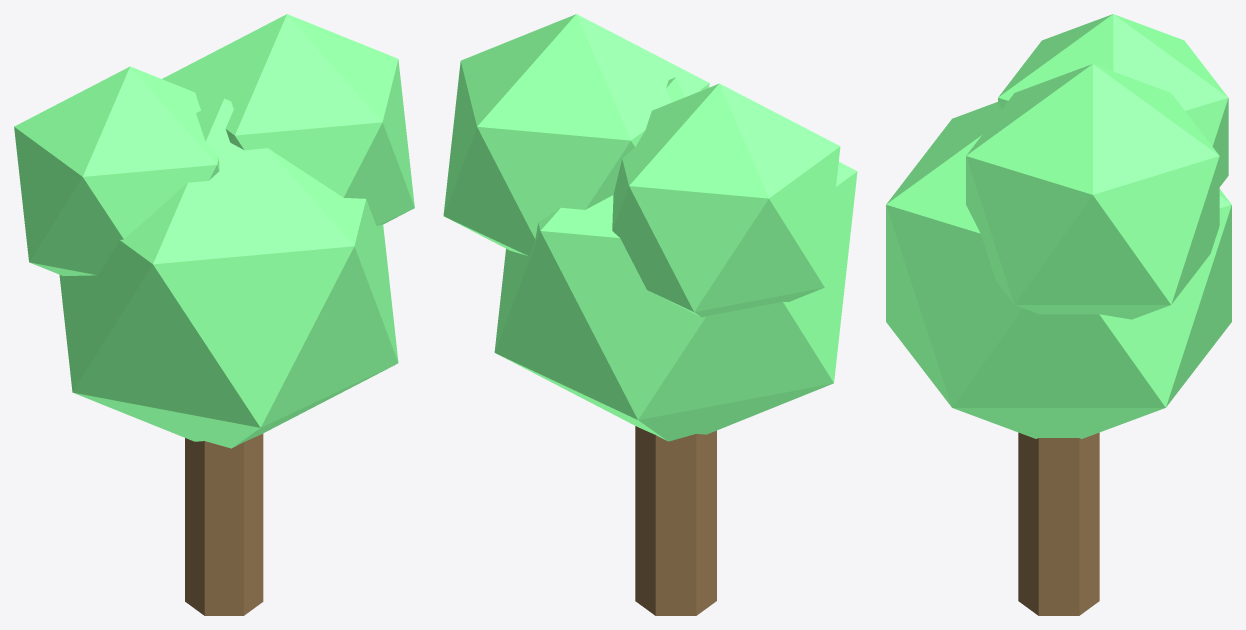
File: tree_oak.glb
3 views of the same model, side by side, from view 1: azimuth 30°, elevation 25°; view 2: azimuth 150°, elevation 25°; view 3: azimuth 270°, elevation 25° (orthographic). The views are drawn at different scales.
Parts seen in each view (by area): view 1: tree_oak; view 2: tree_oak; view 3: tree_oak.
Boxes of the visible parts, box(x1,y1,x2,y2) form: tree_oak: box(14, 14, 414, 615); tree_oak: box(443, 14, 857, 615); tree_oak: box(886, 14, 1231, 615).
Bounding box in the file's own units: 0.6357 × 0.94 × 0.5104.
